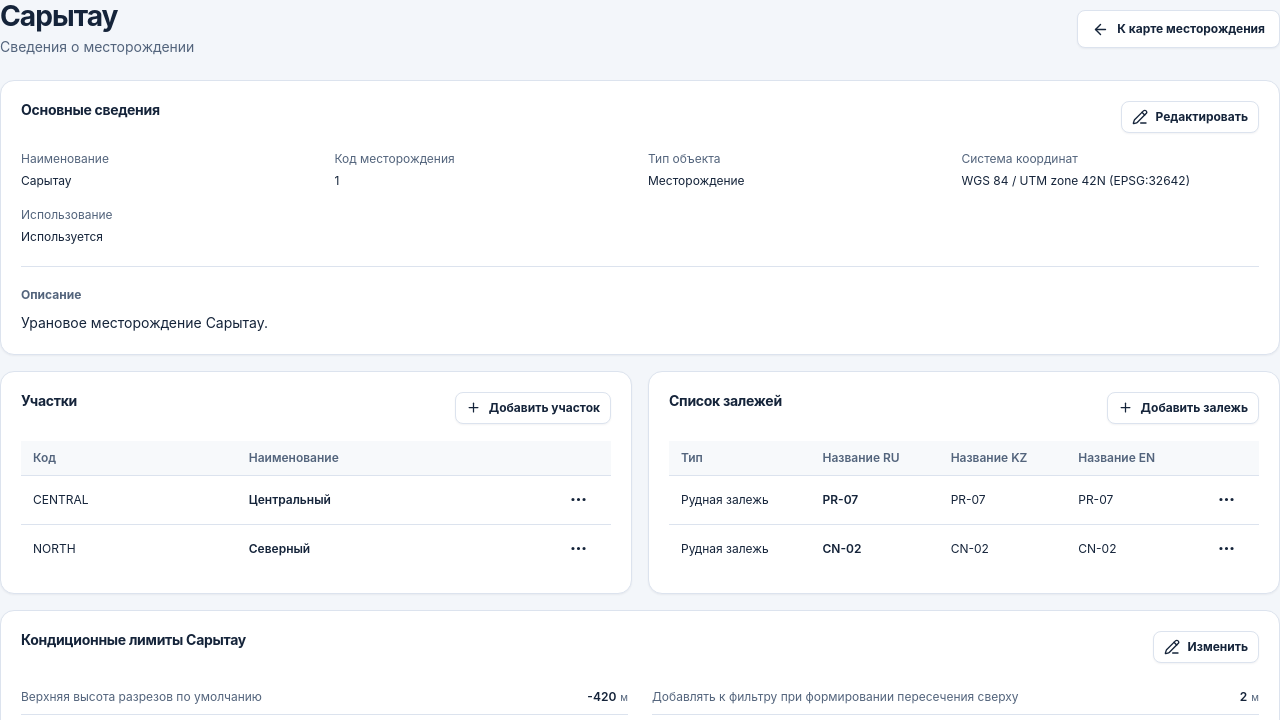
Scenario: Deposit condition limits › preserves edits and shows the save error inside the open form
The width and height of the screenshot is (1280, 720).
Click the button "Изменить" at x=1206, y=647, box [1152, 631, 1259, 663]
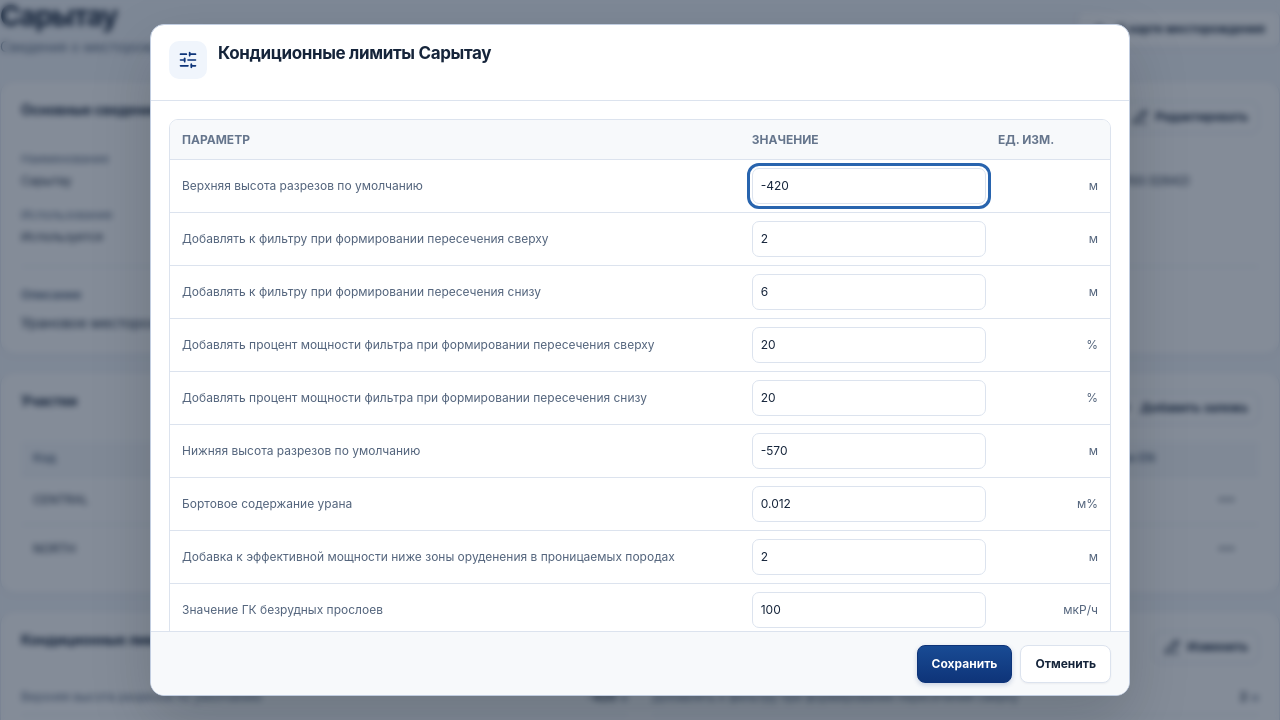
Replace the text in the field labelled "Бортовое содержание урана" with "0.03" at x=869, y=504, box [752, 486, 986, 522]
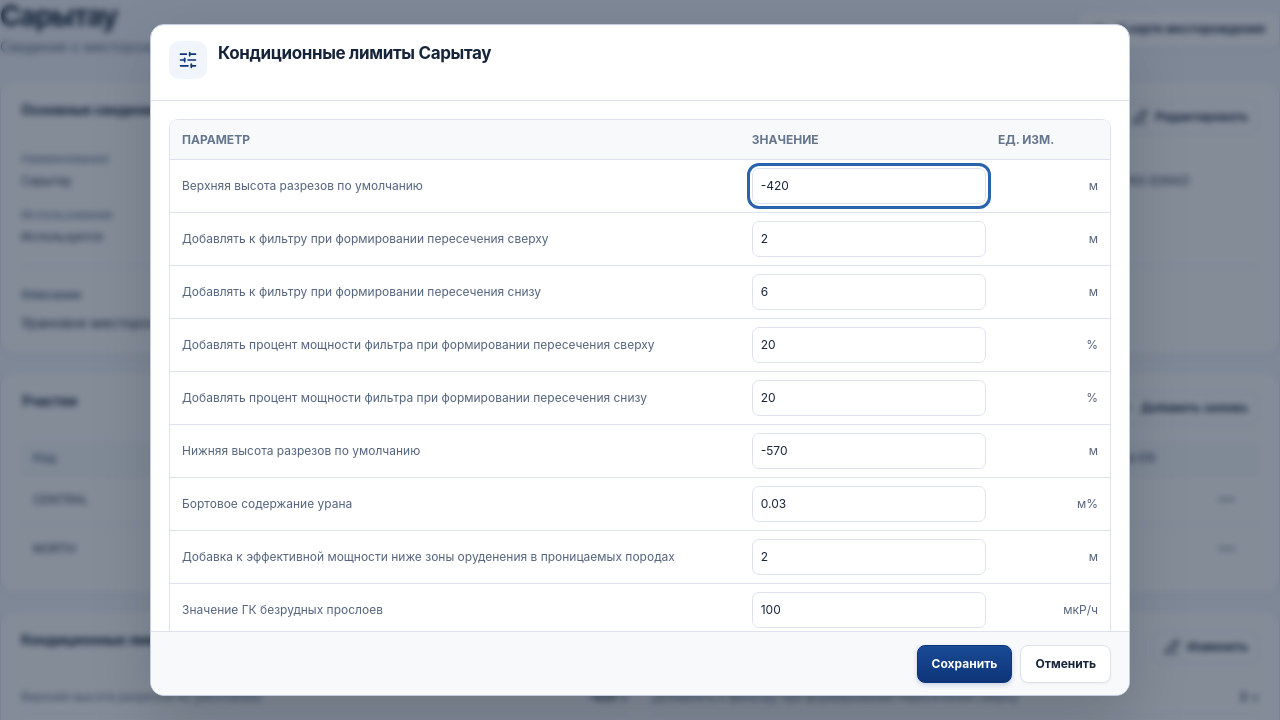
Click the button "Сохранить" at x=964, y=664, box [917, 644, 1012, 682]
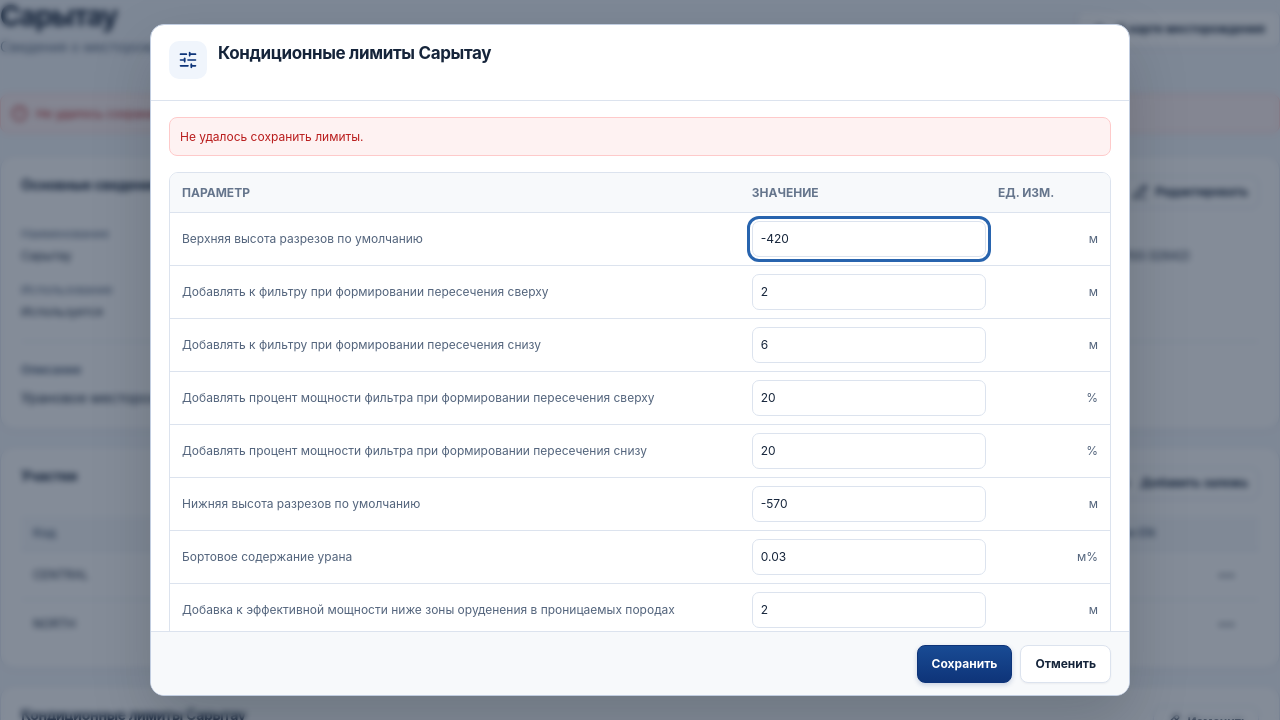
Now the button "Сохранить" is enabled, box [917, 644, 1012, 682]
Now the 2nd message "Не удалось сохранить лимиты." is shown, box [169, 117, 1111, 156]
